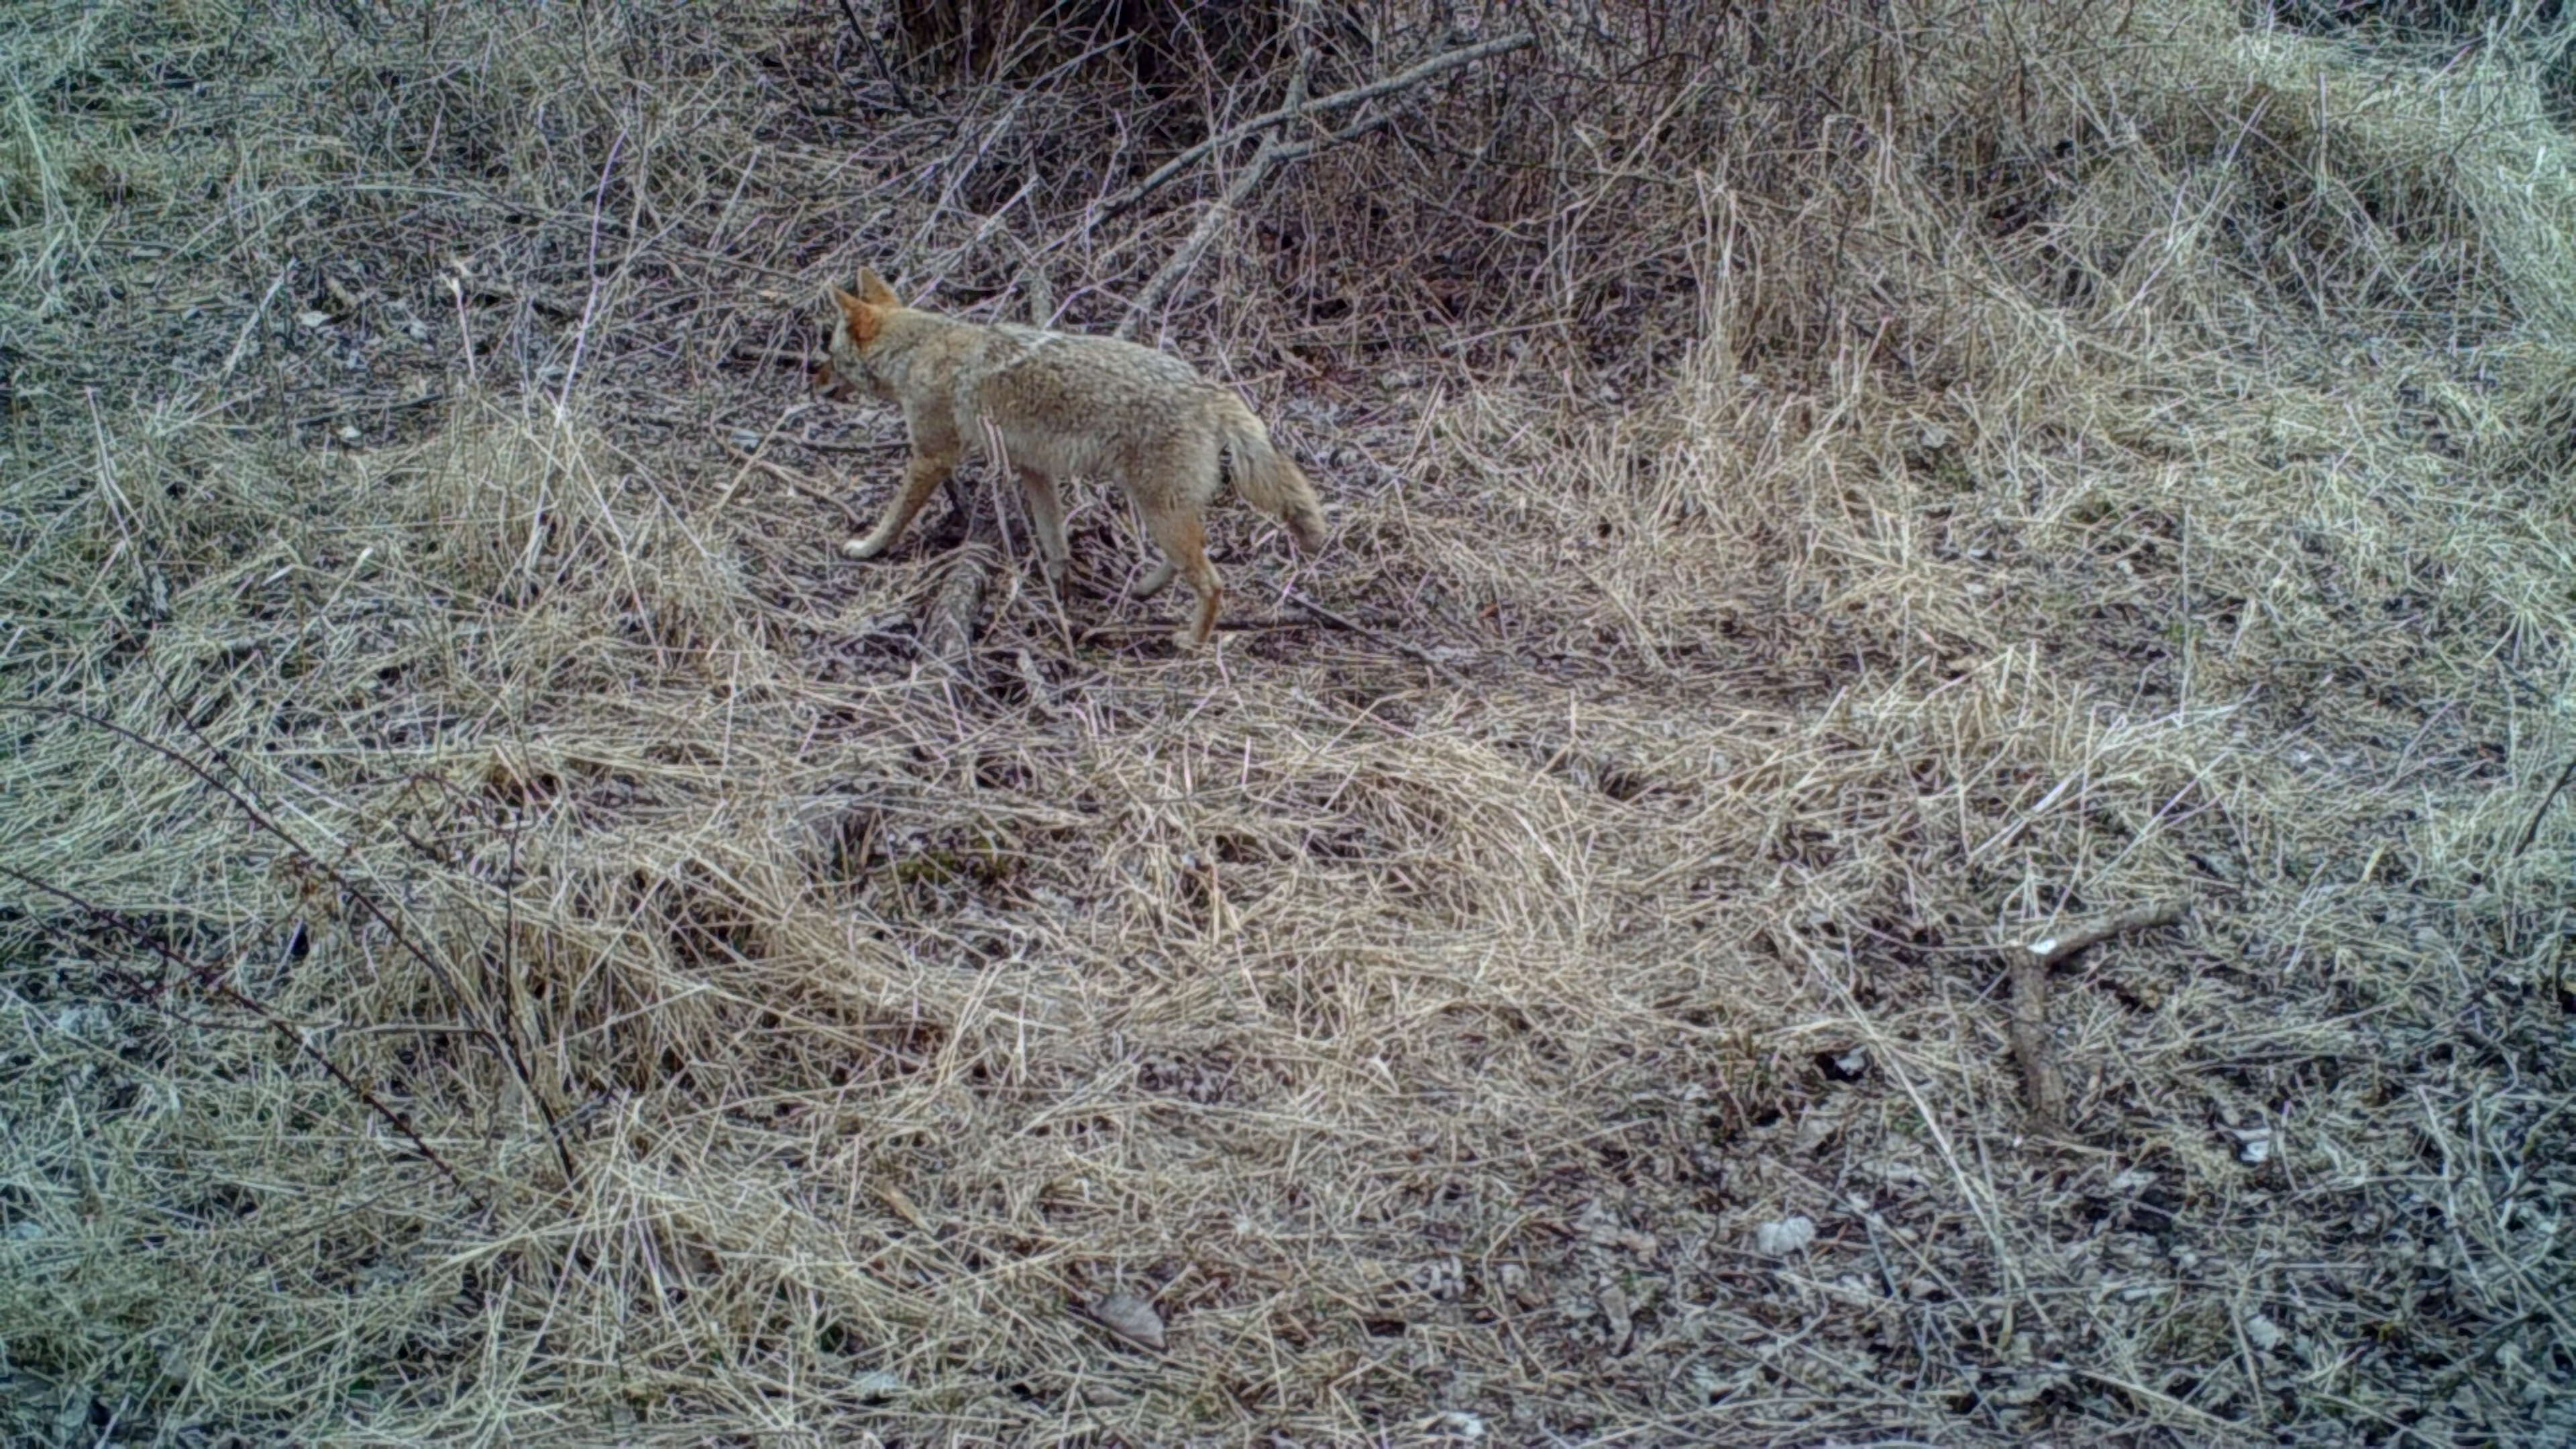Coyote: (810, 255, 1323, 653)
